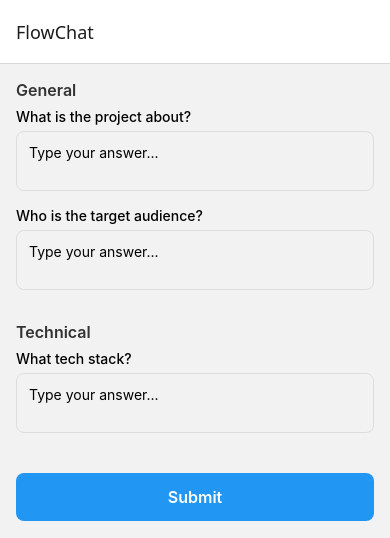
Scenario: FlowChatScreen › when response has next_questions, re-renders with new question TextInputs
This screenshot has width=390, height=538.
Step 1. Click the element with test id "submit-button" → coordinates (195, 497), box top-left (16, 473), bottom-right (374, 521)
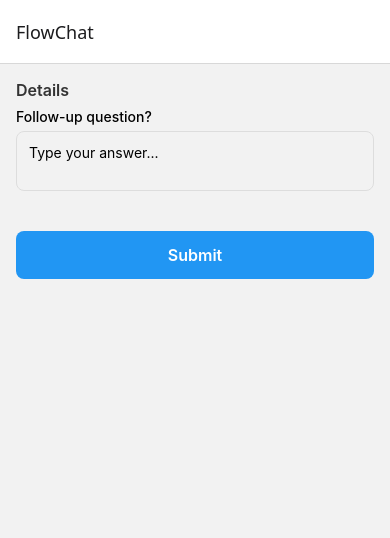
Expected: the text box with test id "answer-q4" is shown, top-left (16, 131), bottom-right (374, 191)
Expected: the text "Follow-up question?" is shown, top-left (16, 108), bottom-right (152, 125)
